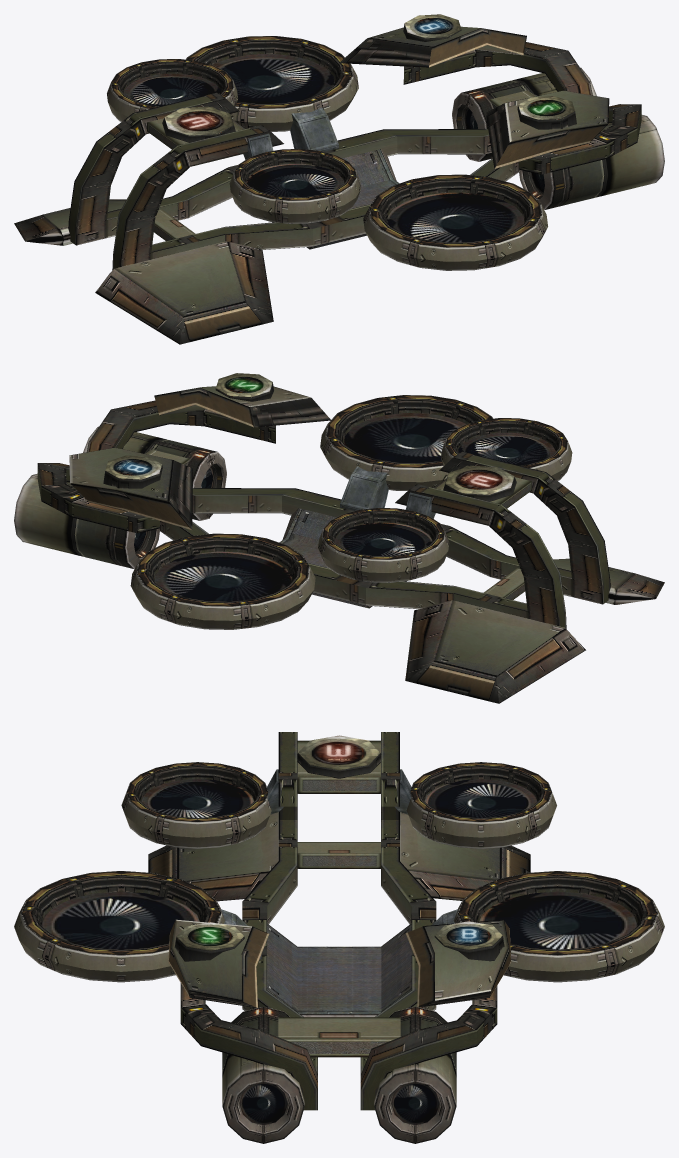
File: flying_unit.obj
3 renders of one model, top to bottom at view 1: azimuth 30°, elevation 25°; view 2: azimuth 150°, elevation 25°; view 3: azimuth 270°, elevation 25°, orthographic. The views are drawn at different scales.
Visible parts, largest first — view 1: pCube13 group2 group6, group6 pCube12, group6 pCube22, group6 pCube15 pTorus2, group6 pCube16 pTorus2, group6 pCylinder3, group6 pCube18 pTorus2, group6 pCube15 pTorus2 pCylinder1, group6 polySurface84, group6 polySurface83, group6 pCube16 pTorus2 pCylinder1, group6 pCube17 pTorus2 (+12 smaller); view 2: group6 pCube12, pCube13 group2 group6, group6 pCube23, group6 pCube16 pTorus2, group6 pCube15 pTorus2, group6 pCylinder2, group6 pCube17 pTorus2, group6 polySurface83, group6 pCube16 pTorus2 pCylinder1, group6 pCube15 pTorus2 pCylinder1, group6 polySurface84, group6 pCube18 pTorus2 (+12 smaller); view 3: group6 pCube12, pCube13 group2 group6, group6 pCube15 pTorus2, group6 pCube16 pTorus2, group6 pCube14, group6 pCube18 pTorus2, group6 pCube17 pTorus2, group6 pCylinder3, group6 pCylinder2, group6 pCube15 pTorus2 pCylinder1, group6 pCube16 pTorus2 pCylinder1, group6 pCube22 (+11 smaller).
Boxes of the visible parts, bbox=[...] form: pCube13 group2 group6: bbox=[68, 42, 592, 245]; group6 pCube12: bbox=[112, 104, 641, 270]; group6 pCube22: bbox=[95, 241, 273, 344]; group6 pCube15 pTorus2: bbox=[363, 174, 547, 270]; group6 pCube16 pTorus2: bbox=[186, 36, 358, 131]; group6 pCylinder3: bbox=[518, 115, 664, 209]; group6 pCube18 pTorus2: bbox=[229, 149, 360, 223]; group6 pCube15 pTorus2 pCylinder1: bbox=[386, 192, 524, 242]; group6 polySurface84: bbox=[486, 90, 609, 168]; group6 polySurface83: bbox=[339, 26, 526, 67]; group6 pCube16 pTorus2 pCylinder1: bbox=[213, 53, 334, 103]; group6 pCube17 pTorus2: bbox=[107, 59, 238, 121]; group6 pCube12: bbox=[87, 400, 610, 604]; pCube13 group2 group6: bbox=[37, 463, 566, 628]; group6 pCube23: bbox=[405, 600, 585, 703]; group6 pCube16 pTorus2: bbox=[130, 533, 315, 629]; group6 pCube15 pTorus2: bbox=[320, 395, 492, 490]; group6 pCylinder2: bbox=[14, 473, 160, 569]; group6 pCube17 pTorus2: bbox=[318, 508, 449, 582]; group6 polySurface83: bbox=[69, 447, 192, 529]; group6 pCube16 pTorus2 pCylinder1: bbox=[154, 551, 291, 601]; group6 pCube15 pTorus2 pCylinder1: bbox=[344, 413, 465, 462]; group6 polySurface84: bbox=[154, 386, 331, 427]; group6 pCube18 pTorus2: bbox=[441, 418, 572, 480]; group6 pCube12: bbox=[180, 732, 317, 1110]; pCube13 group2 group6: bbox=[360, 732, 497, 1110]; group6 pCube15 pTorus2: bbox=[14, 871, 225, 982]; group6 pCube16 pTorus2: bbox=[453, 871, 664, 982]; group6 pCube14: bbox=[267, 923, 411, 1017]; group6 pCube18 pTorus2: bbox=[121, 762, 271, 848]; group6 pCube17 pTorus2: bbox=[406, 762, 556, 848]; group6 pCylinder3: bbox=[222, 1006, 304, 1143]; group6 pCylinder2: bbox=[374, 1006, 456, 1143]; group6 pCube15 pTorus2 pCylinder1: bbox=[41, 891, 199, 949]; group6 pCube16 pTorus2 pCylinder1: bbox=[479, 891, 637, 949]; group6 pCube22: bbox=[148, 812, 278, 901].
Size of the model in its own units: 43.55 by 10.28 by 38.15.
Materials: 7 (7 with a texture image).
